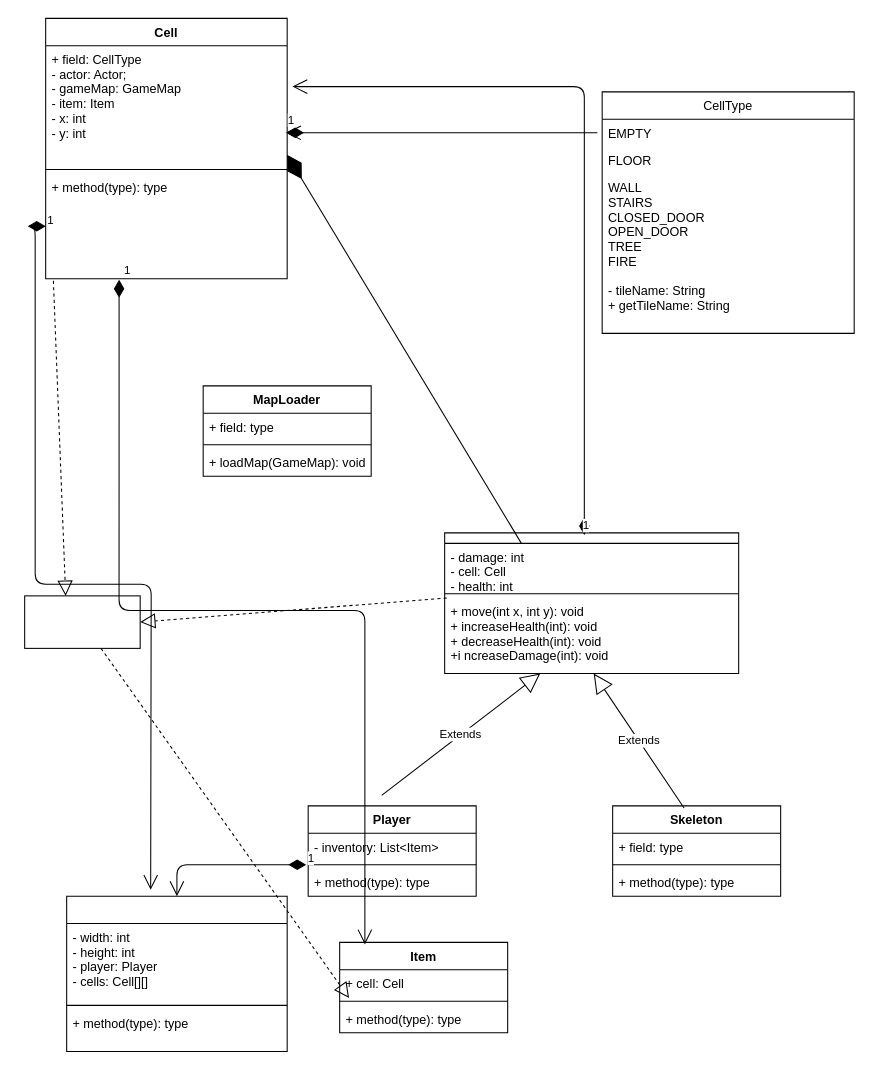
Some shapes in this 873 by 1073 pixel diagram are drawn without their labels. The shapes that lost their labels are listed below. From the top down, each one's box as (x1, y1, x2, y2) in pixels, then its label:
(24, 595, 140, 648): «interface» Drawable
(444, 532, 739, 674): Actor
(66, 895, 287, 1052): GameMap
